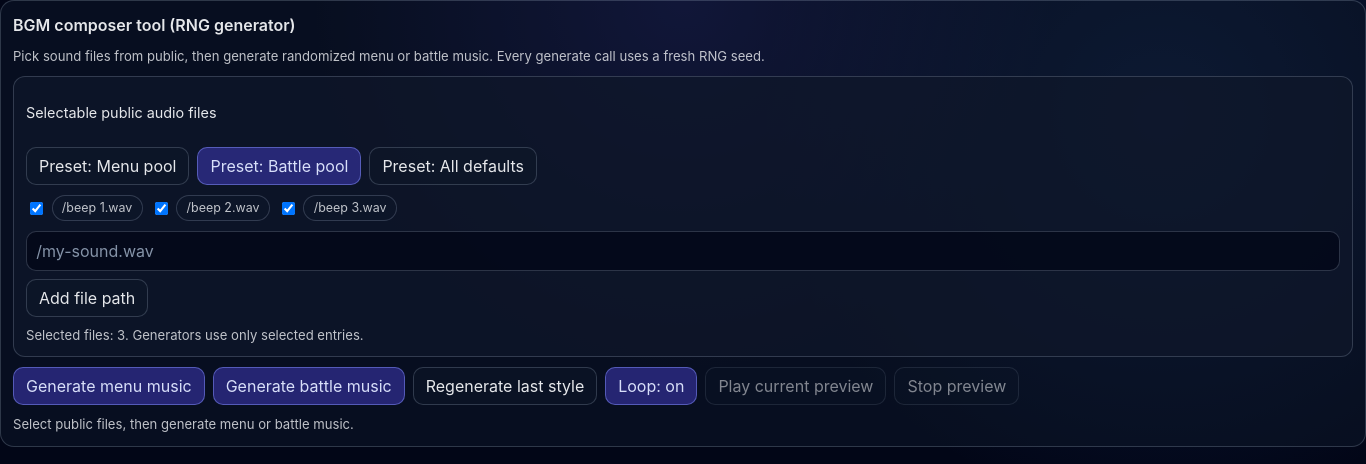
it: BgmComposerToolExample › toggles loop state label
What coordinates should you click on to do the following:
click the button "Loop: on"
I would click on:
 (651, 386)
Its box is [605,367,697,405].
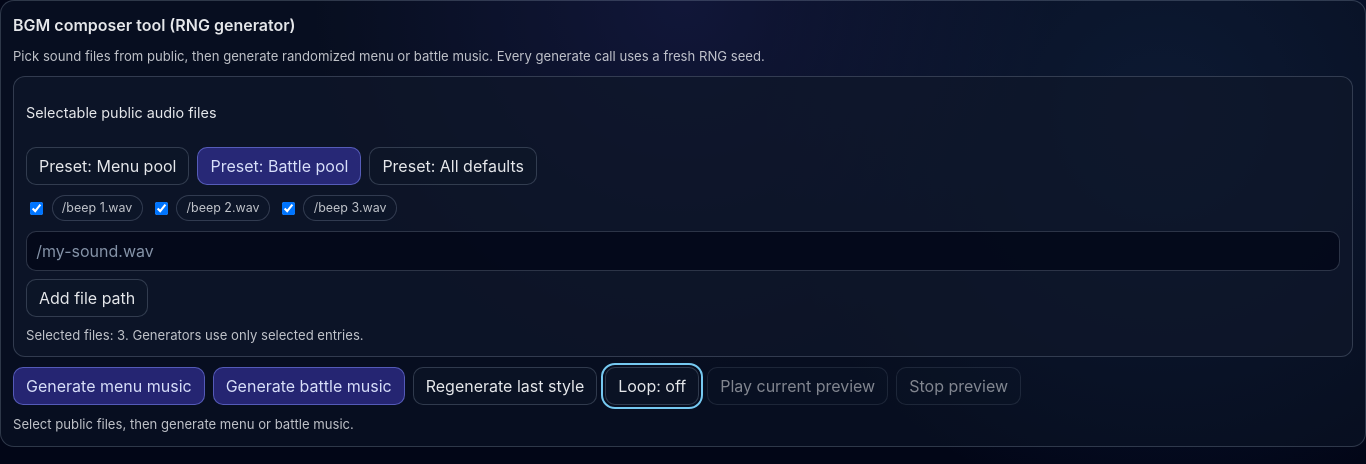
Expected: the button "Loop: off" is shown, [605,367,699,405]
